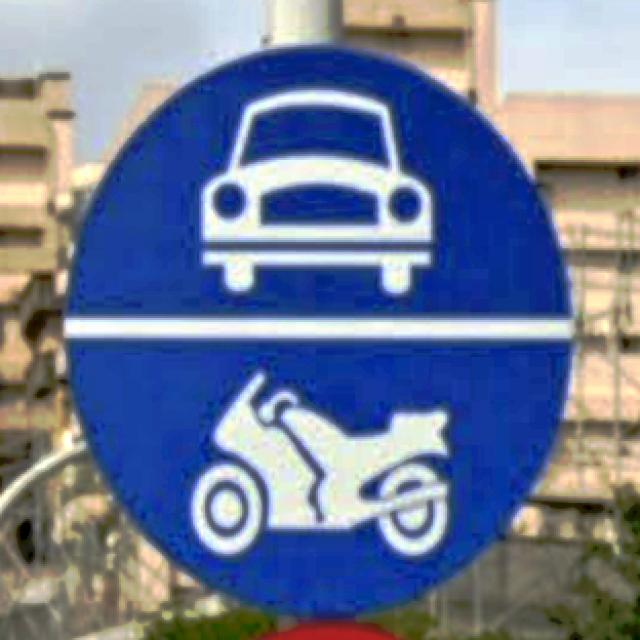carmotorcycle: (65, 48, 572, 618)
